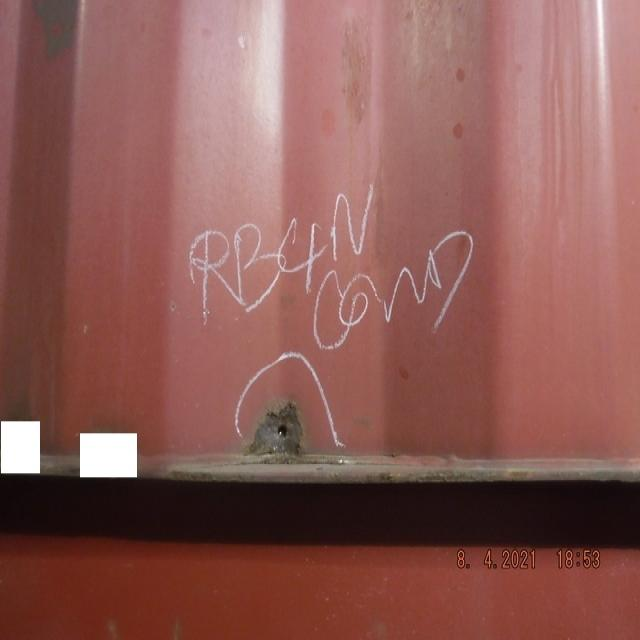hole: (248, 401, 306, 461)
